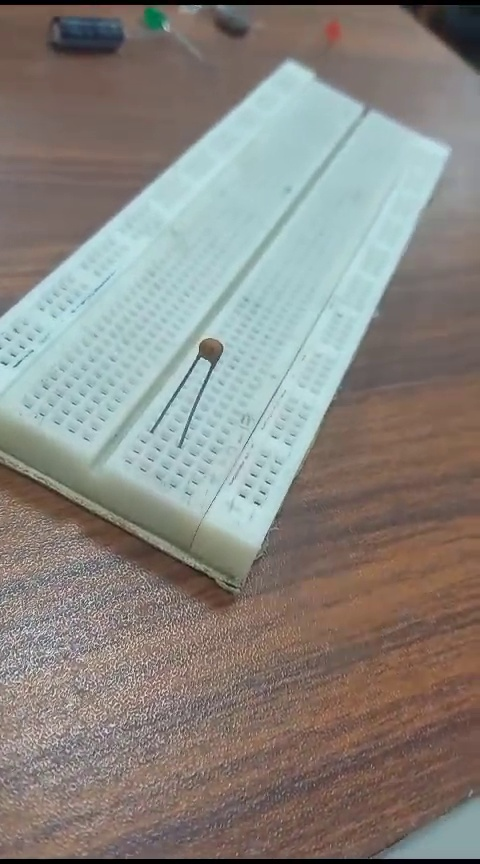ceramic capacitor: (163, 335, 223, 460)
